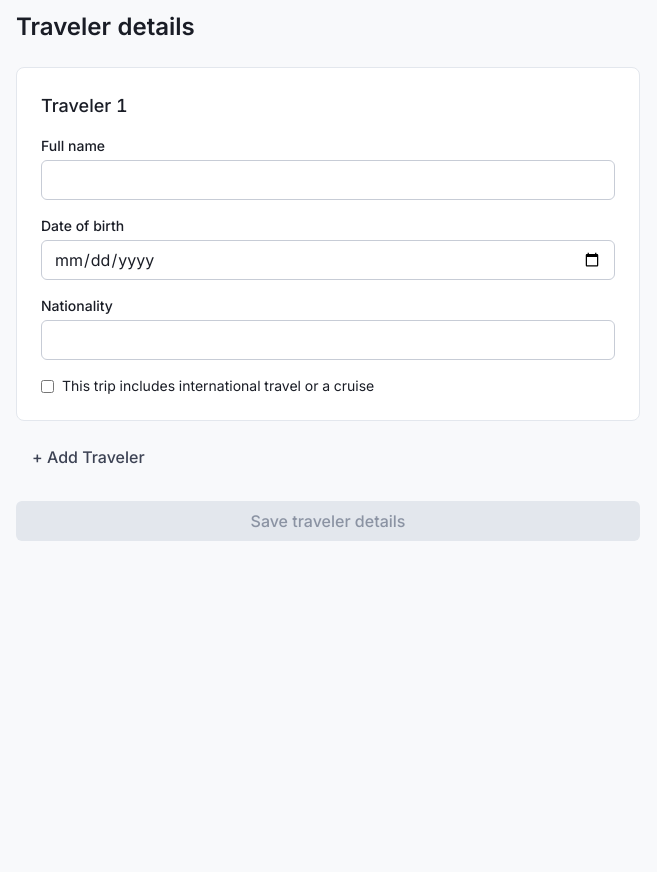
TravelerDetailsScreen (SCR-14) › adds another traveler section via + Add Traveler
What coordinates should you click on to do the following:
click the button "+ Add Traveler"
I would click on:
 (88, 457)
Its box is [16, 437, 161, 477].
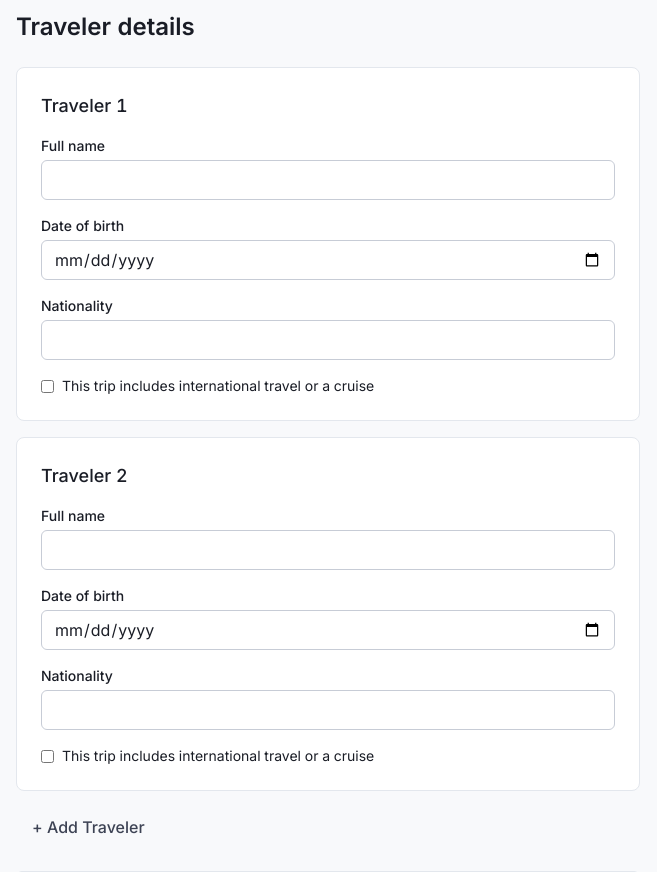
expect the heading "Traveler 1" is shown: met, box [41, 92, 128, 120]
expect the heading "Traveler 2" is shown: met, box [41, 462, 128, 490]
